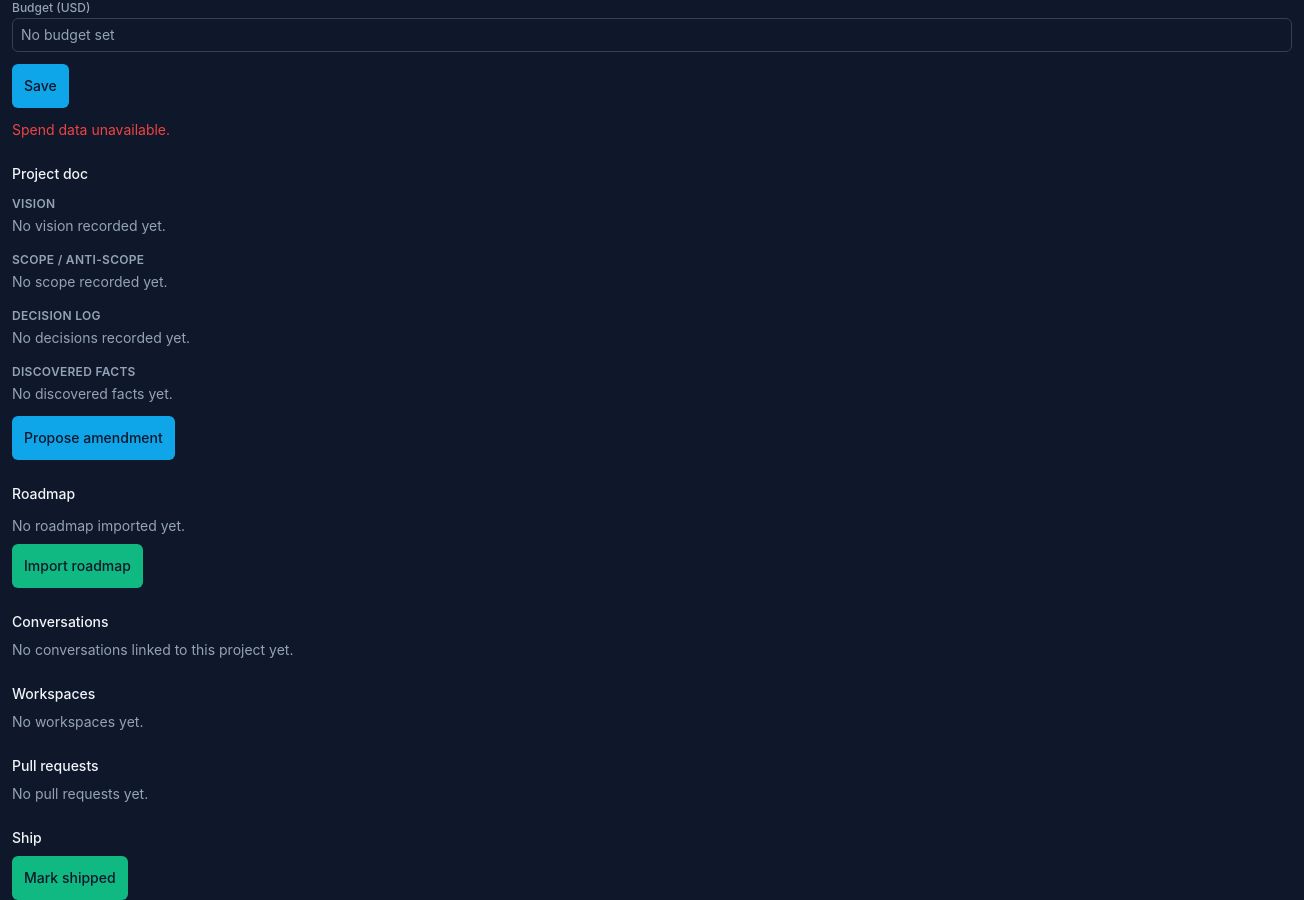
Test: Project › ship project › shows a ready 'mark shipped' button when ready_to_complete is true, and completing shows the shipped state with the refreshed final summary
(page scrolled)
Click the button with test id "project-complete-button". click: (70, 878)
box: left=12, top=856, right=128, bottom=899
(page scrolled)
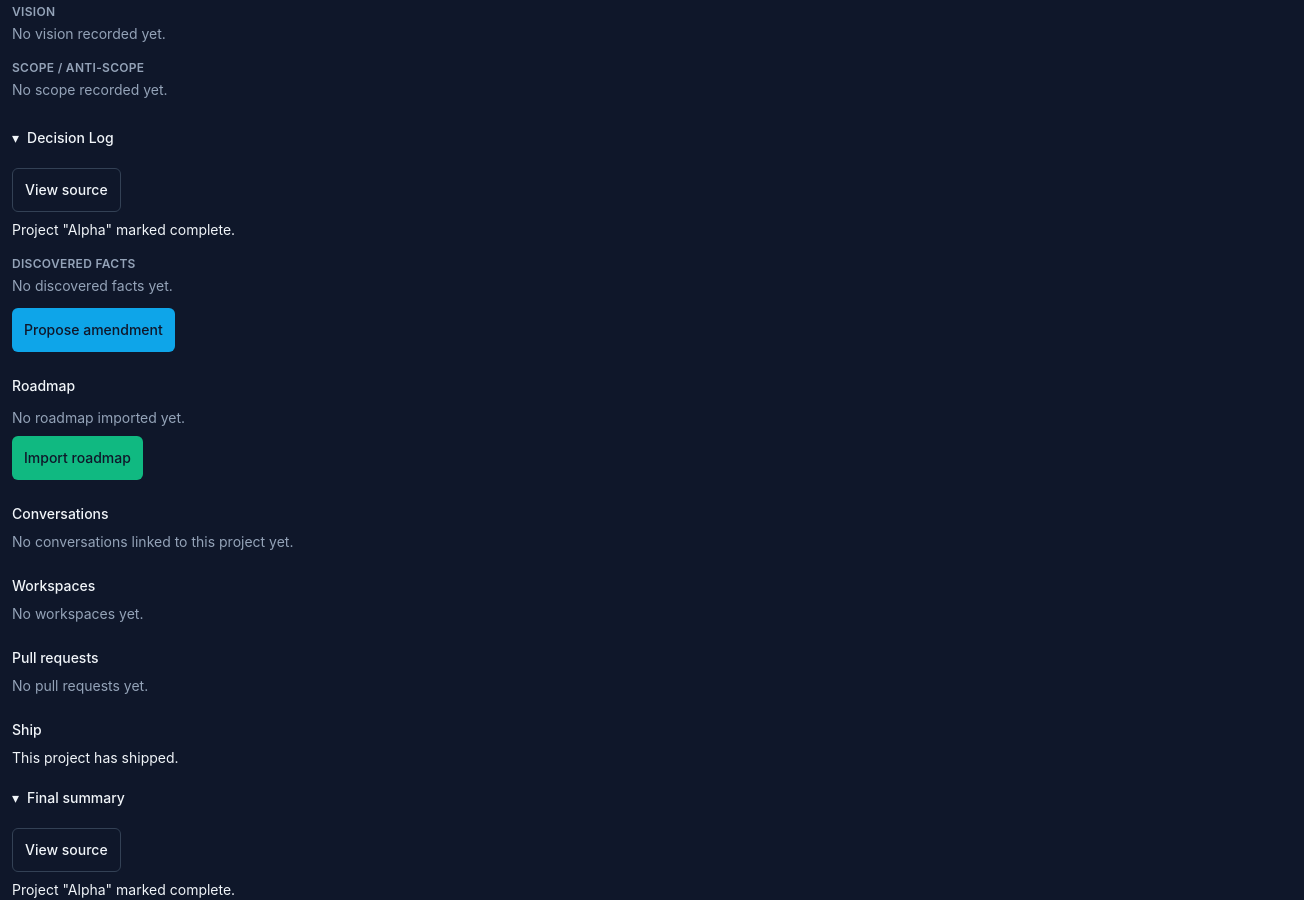
Now the element with test id "project-complete-shipped" is shown, box left=12, top=749, right=235, bottom=898
Now the button with test id "project-complete-button" is gone
Now the element with test id "project-complete-summary" reads "Project \"Alpha\" marked complete.", box left=12, top=881, right=235, bottom=898
